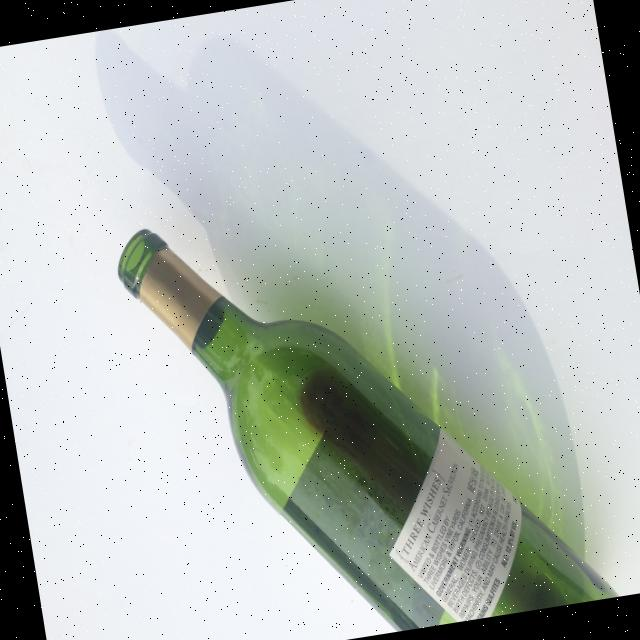glass: (111, 162, 618, 640)
